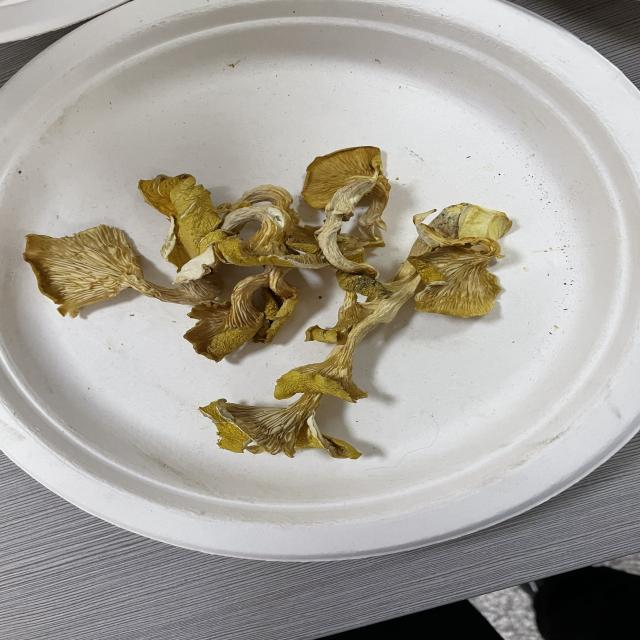Pleurotus citrinopileatus: (196, 97, 613, 462)
